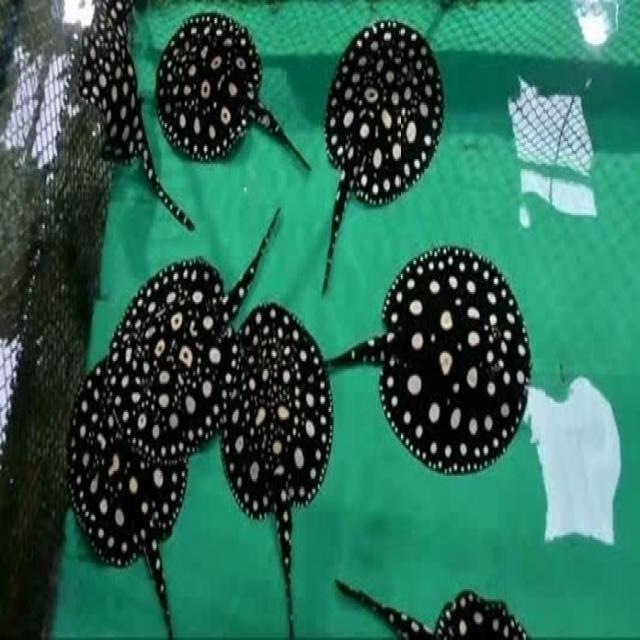black-diamond-sting-ray: (327, 224, 540, 518), (54, 323, 217, 640), (105, 197, 288, 477), (315, 0, 457, 312), (210, 298, 340, 632), (66, 5, 190, 250), (158, 0, 312, 189)
